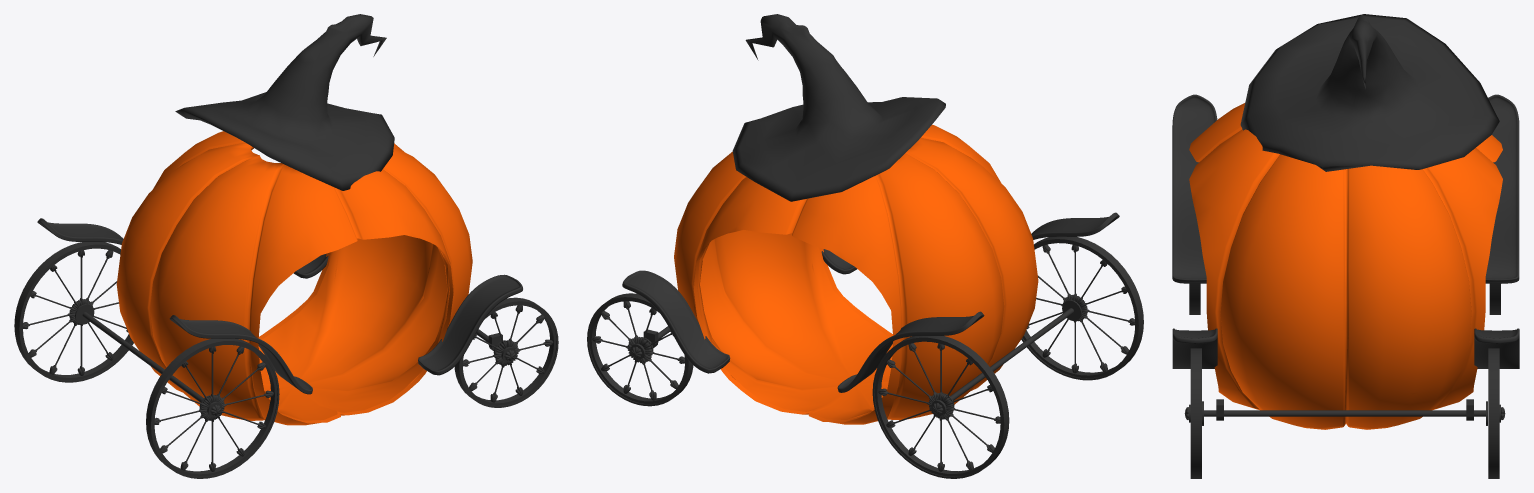
3 views of the same model, side by side, from view 1: azimuth 30°, elevation 25°; view 2: azimuth 150°, elevation 25°; view 3: azimuth 270°, elevation 25° (orthographic). The views are drawn at different scales.
Visible parts, largest first — view 1: Sphere015, EcoCloudArchive001, Line14, Line01, obruch-iron, obruch-wood, obruch-iron06, Line22, obruch-wood02, obruch-wood06, obruch-iron02, os-zadnyaya; view 2: Sphere015, EcoCloudArchive001, Line15, Line22, obruch-iron06, obruch-wood06, obruch-iron, Line01, obruch-wood07, obruch-wood, obruch-iron07, os-zadnyaya; view 3: Sphere015, EcoCloudArchive001, Line01, Line22, os-perednyaya, Line15, Line14, obruch-iron07, obruch-iron02, obruch-iron06, obruch-iron.
Part boxes in pixels (bbox=[...]): Sphere015: bbox=[116, 131, 472, 425]; EcoCloudArchive001: bbox=[175, 14, 394, 190]; Line14: bbox=[418, 274, 522, 375]; Line01: bbox=[169, 315, 312, 394]; obruch-iron: bbox=[146, 338, 279, 478]; obruch-wood: bbox=[152, 342, 277, 476]; obruch-iron06: bbox=[14, 242, 133, 382]; Line22: bbox=[37, 218, 123, 244]; obruch-wood02: bbox=[461, 303, 556, 405]; obruch-wood06: bbox=[21, 246, 132, 380]; obruch-iron02: bbox=[454, 297, 558, 407]; os-zadnyaya: bbox=[82, 312, 203, 402]; Sphere015: bbox=[674, 124, 1038, 424]; EcoCloudArchive001: bbox=[732, 14, 945, 201]; Line15: bbox=[622, 270, 730, 373]; Line22: bbox=[837, 311, 984, 392]; obruch-iron06: bbox=[872, 336, 1009, 478]; obruch-wood06: bbox=[874, 339, 1002, 476]; obruch-iron: bbox=[1021, 236, 1143, 380]; Line01: bbox=[1031, 212, 1119, 239]; obruch-wood07: bbox=[589, 299, 686, 403]; obruch-wood: bbox=[1022, 240, 1137, 378]; obruch-iron07: bbox=[587, 293, 693, 406]; os-zadnyaya: bbox=[950, 308, 1073, 400]; Sphere015: bbox=[1189, 103, 1502, 429]; EcoCloudArchive001: bbox=[1240, 14, 1499, 171]; Line01: bbox=[1172, 94, 1217, 283]; Line22: bbox=[1485, 94, 1519, 283]; os-perednyaya: bbox=[1204, 410, 1485, 416]; Line15: bbox=[1474, 328, 1519, 368]; Line14: bbox=[1172, 328, 1217, 368]; obruch-iron07: bbox=[1488, 348, 1499, 478]; obruch-iron02: bbox=[1190, 348, 1201, 478]; obruch-iron06: bbox=[1489, 283, 1500, 314]; obruch-iron: bbox=[1189, 284, 1200, 314].
Bounding box in the file's own units: 323 × 269 × 209.
